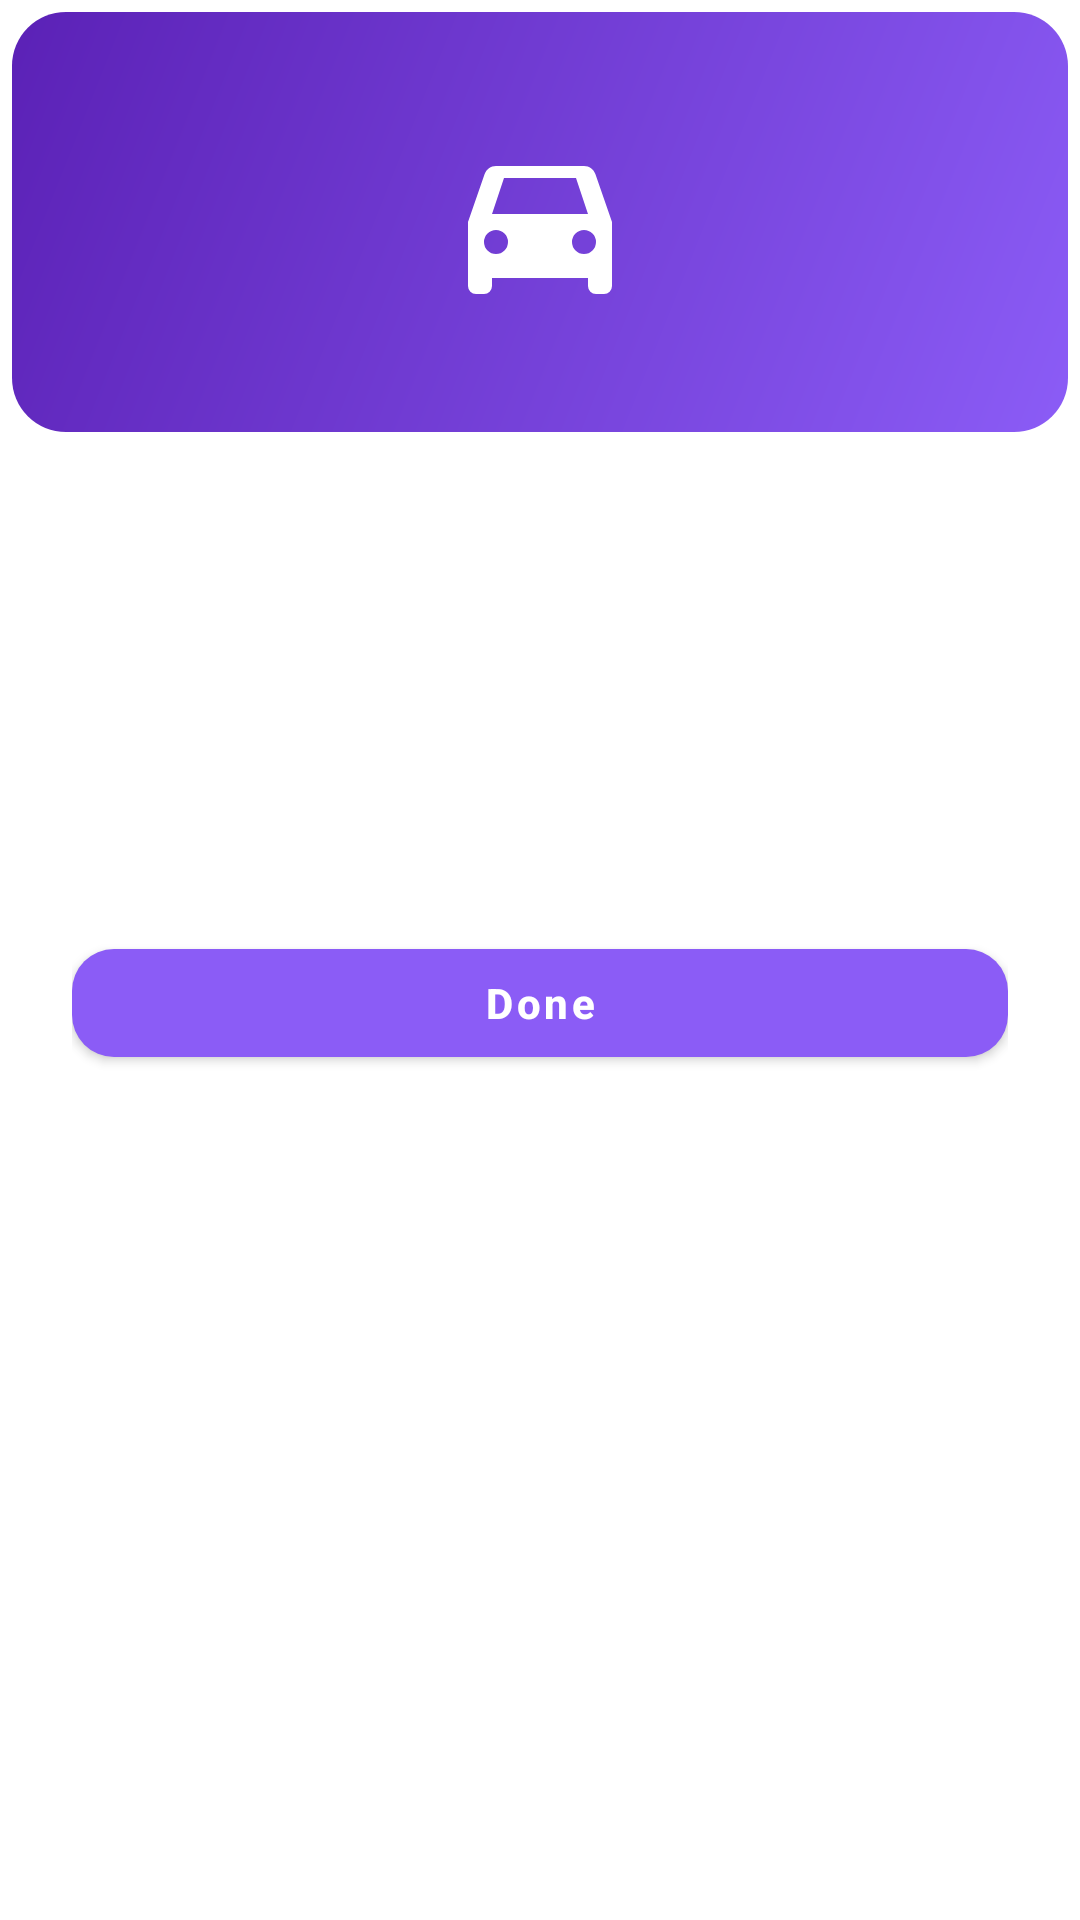

Icons on this 1080w x 1920h Android screen, each with the point to tap as (x=x, y=y):
Cab: (x=540, y=230)
